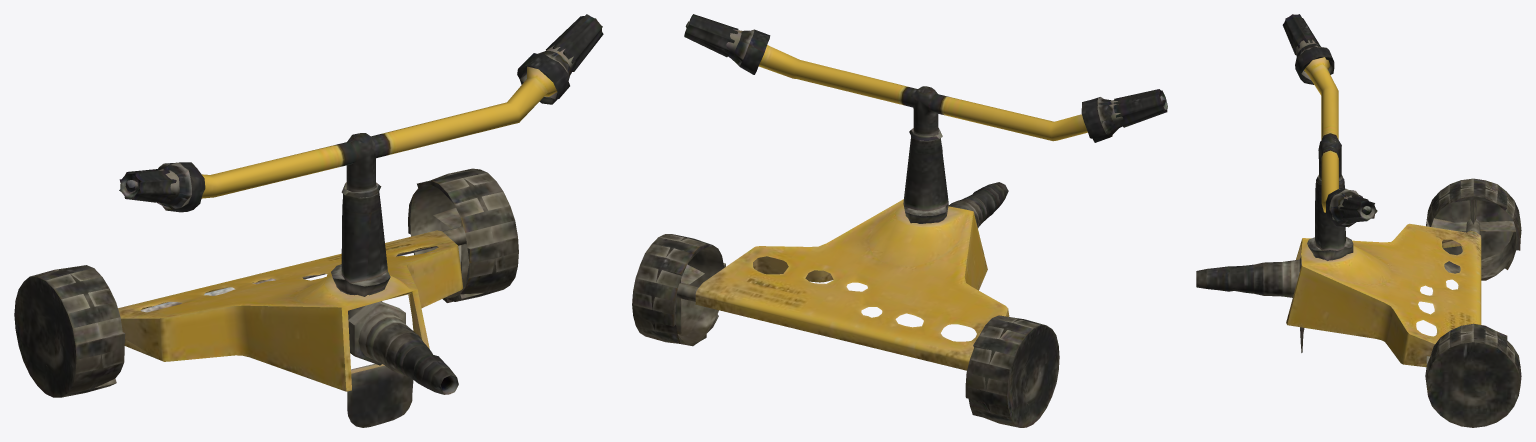
Rendered from sprinkler.glb.
3 renders of one model, left to right at view 1: azimuth 30°, elevation 25°; view 2: azimuth 150°, elevation 25°; view 3: azimuth 270°, elevation 25°, orthographic. The views are drawn at different scales.
Parts seen in each view (by area): view 1: sprinkler; view 2: sprinkler; view 3: sprinkler.
Boxes of the visible parts, x1,y1,x2,y2 form: sprinkler: (14,14,603,427); sprinkler: (632,14,1167,427); sprinkler: (1196,14,1521,427).
Size of the model in its own units: 0.3509 by 0.2031 by 0.2489.
Materials: 1 (1 with a texture image).
